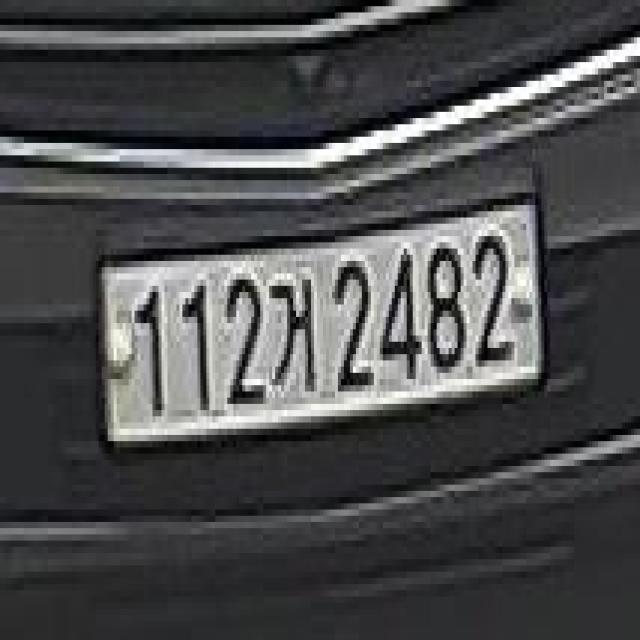illegal_plate: (93, 198, 546, 466)
